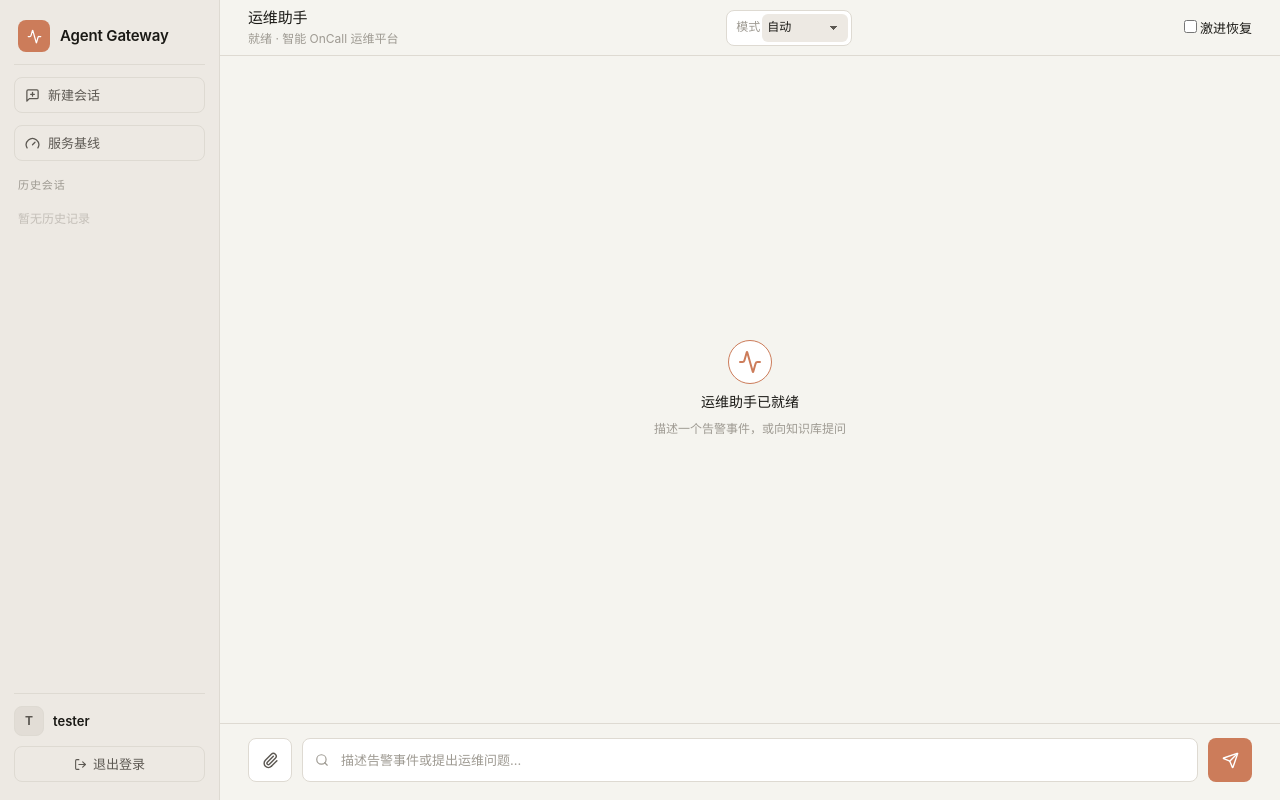
Test: App › confirms suggested actions via the HITL audit API without executing them
In the field named "消息": (750, 760) [302,738,1198,782], type "checkout-api slow"
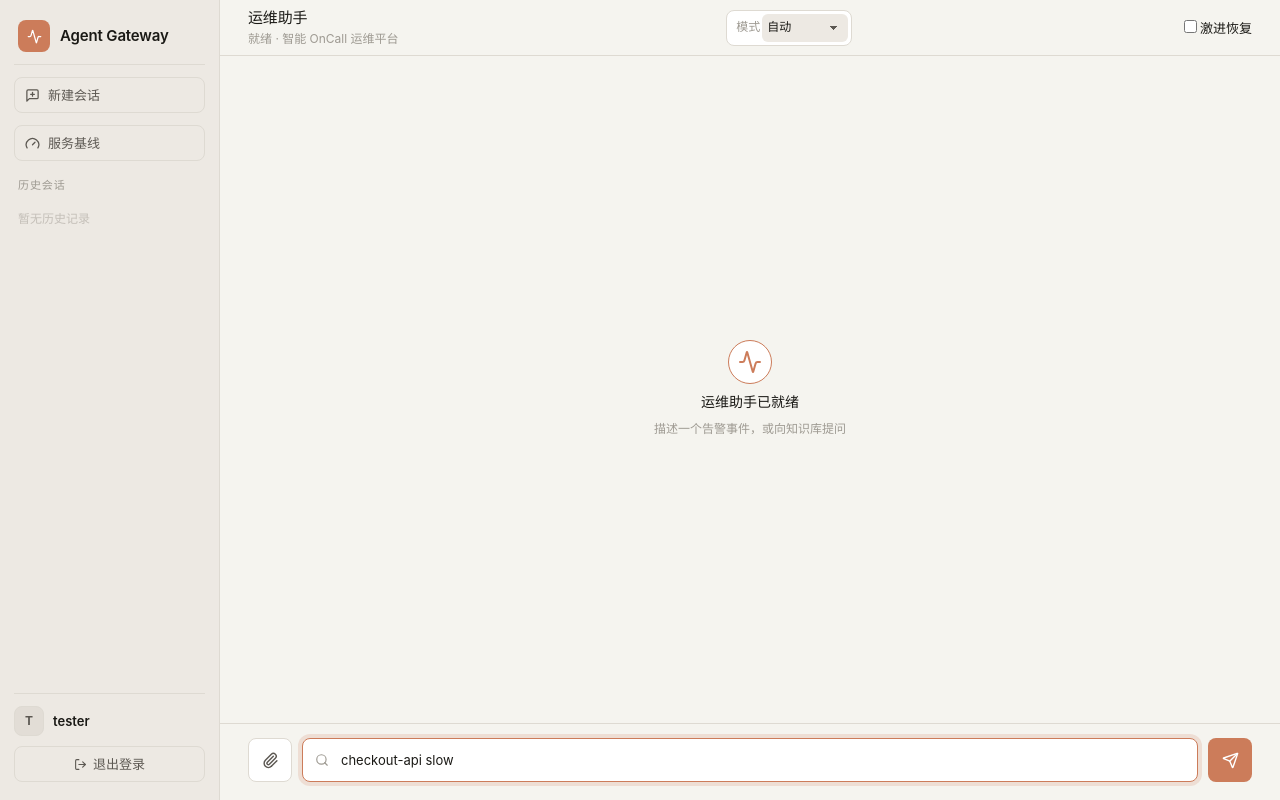
Click the button named "发送": (1230, 760) [1208,738,1252,782]
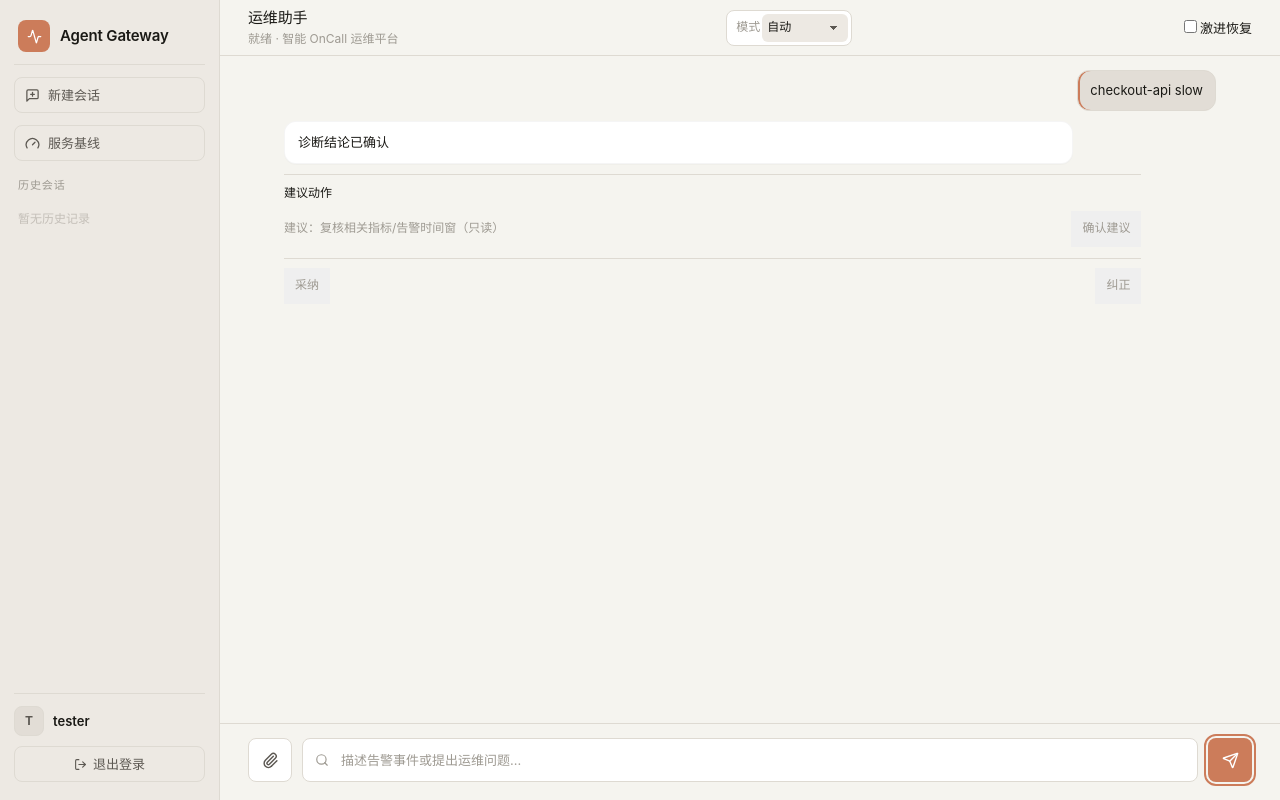
Expected: the element with test id "suggested-actions-card" is shown, [284,174,1141,248]
Click the button "确认建议": (1106, 229) [1071,211,1141,247]
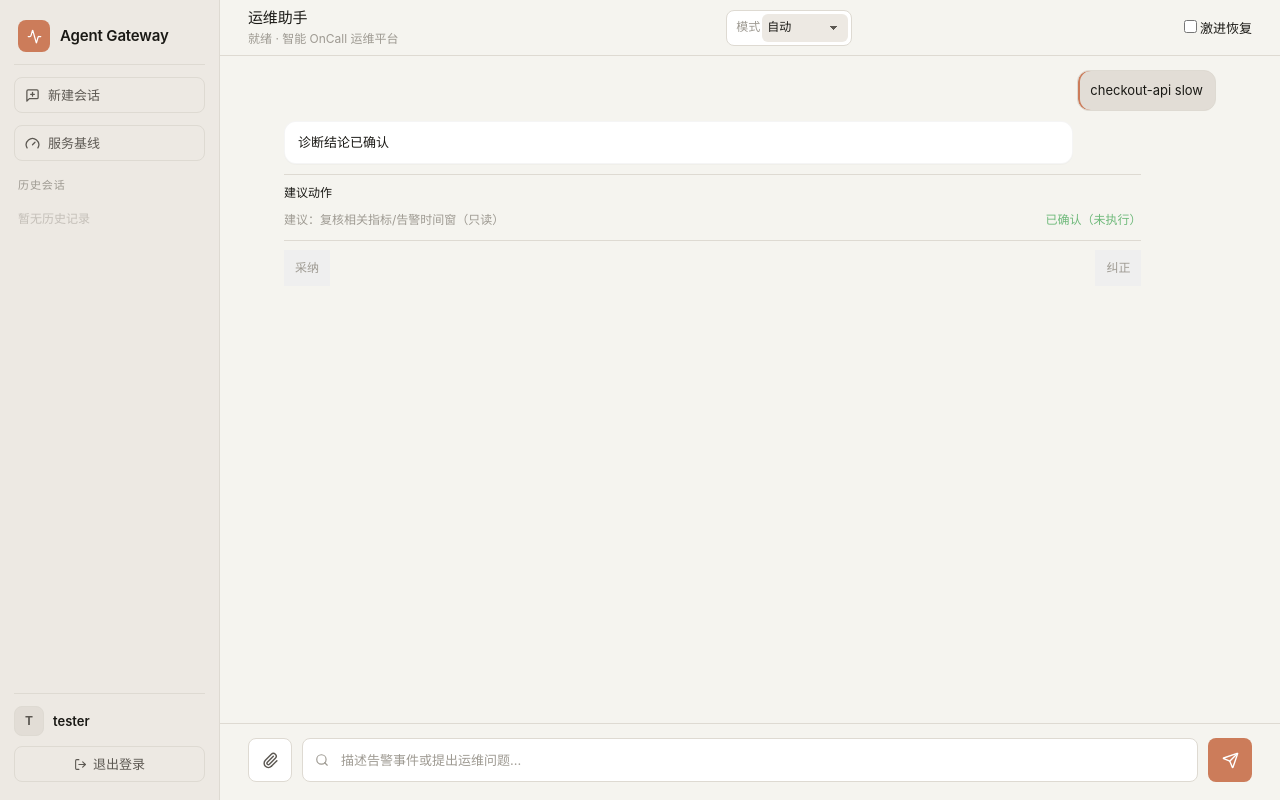
Expected: the text "已确认（未执行）" is shown, [1045,211,1141,229]
